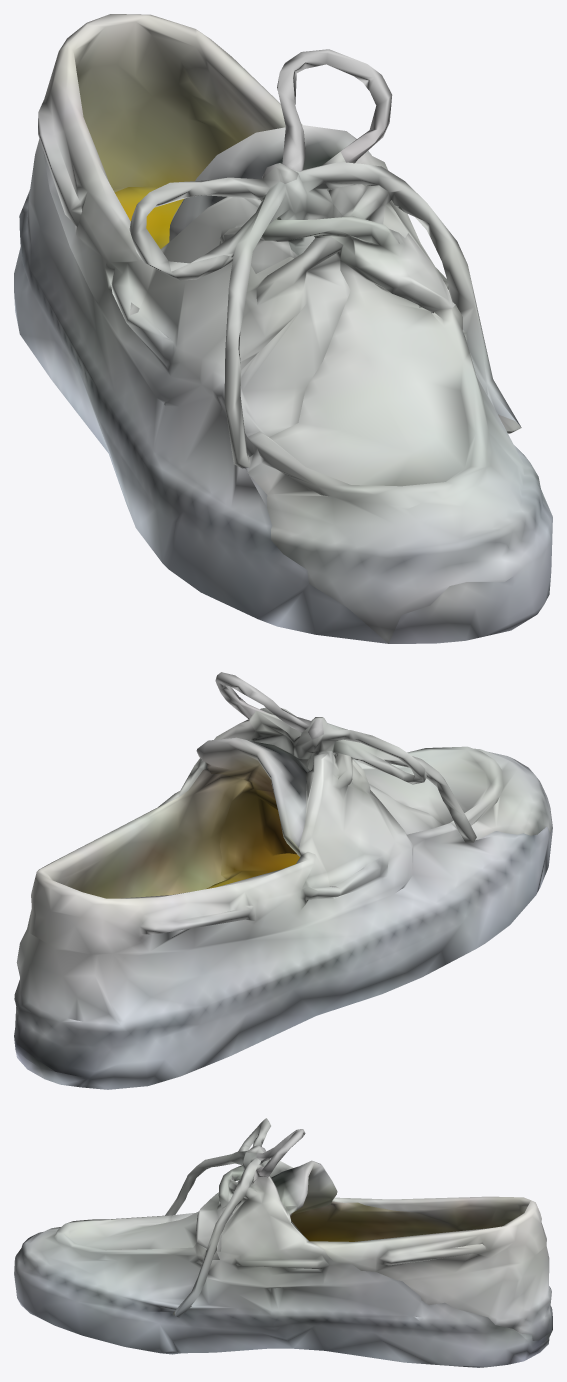
File: Womens_Sequin_Bahama_in_White_Sequin_yGVsSA4tOwJ-medium.glb
The picture shows the model from 3 angles, top to bottom: view 1: azimuth 30°, elevation 25°; view 2: azimuth 150°, elevation 25°; view 3: azimuth 270°, elevation 25°; orthographic projection. The views are drawn at different scales.
Parts seen in each view (by area): view 1: Womens_Sequin_Bahama_in_White_Sequin_yGVsSA4tOwJ; view 2: Womens_Sequin_Bahama_in_White_Sequin_yGVsSA4tOwJ; view 3: Womens_Sequin_Bahama_in_White_Sequin_yGVsSA4tOwJ.
Boxes of the visible parts, left/top/right/bottom form: Womens_Sequin_Bahama_in_White_Sequin_yGVsSA4tOwJ: left=14, top=14, right=552, bottom=643; Womens_Sequin_Bahama_in_White_Sequin_yGVsSA4tOwJ: left=14, top=672, right=552, bottom=1089; Womens_Sequin_Bahama_in_White_Sequin_yGVsSA4tOwJ: left=14, top=1118, right=552, bottom=1367.
Bounding box in the file's own units: 0.1012 × 0.1058 × 0.2461.
1 material, 1 textured.
